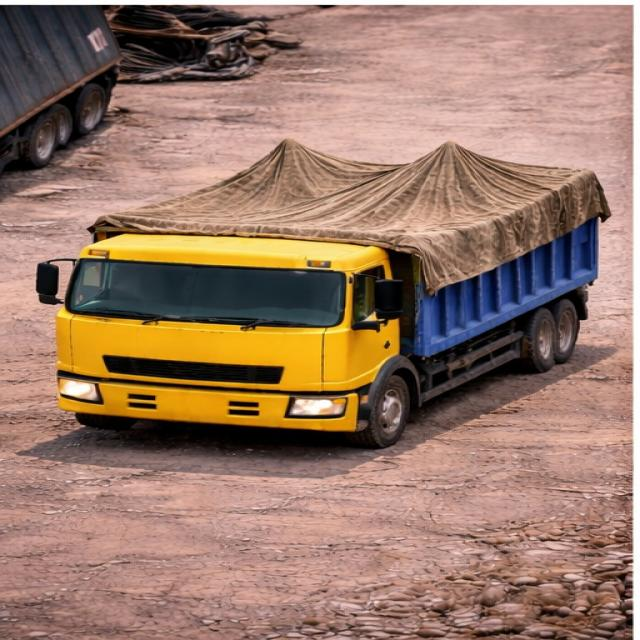Box: (104, 142, 600, 230)
Truck: (40, 128, 612, 454)
